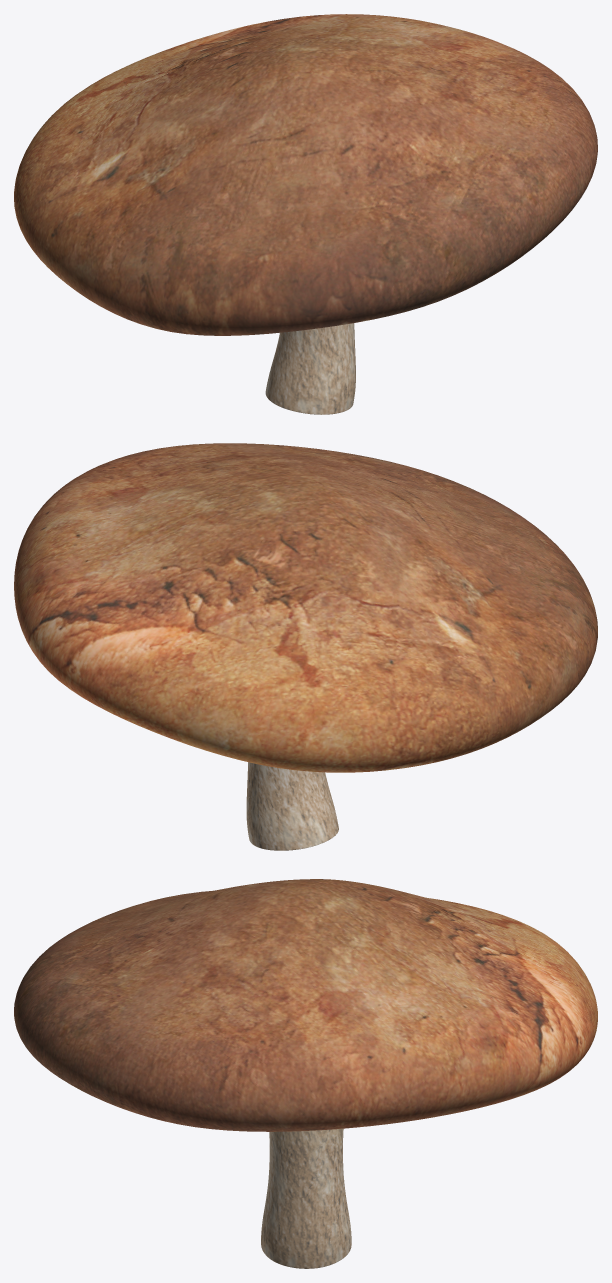
The model's file is Mushroom.glb.
The picture shows the model from 3 angles, top to bottom: view 1: azimuth 30°, elevation 25°; view 2: azimuth 150°, elevation 25°; view 3: azimuth 270°, elevation 25°; orthographic projection. The views are drawn at different scales.
Parts seen in each view (by area): view 1: Shiitake_Mesh; view 2: Shiitake_Mesh; view 3: Shiitake_Mesh.
Part boxes in pixels (x1,y1,x2,y2): Shiitake_Mesh: (14, 14, 597, 414); Shiitake_Mesh: (14, 443, 597, 850); Shiitake_Mesh: (14, 879, 597, 1268).
Bounding box in the file's own units: 5.48 × 3.64 × 5.45.
Materials: 1 (1 with a texture image).
